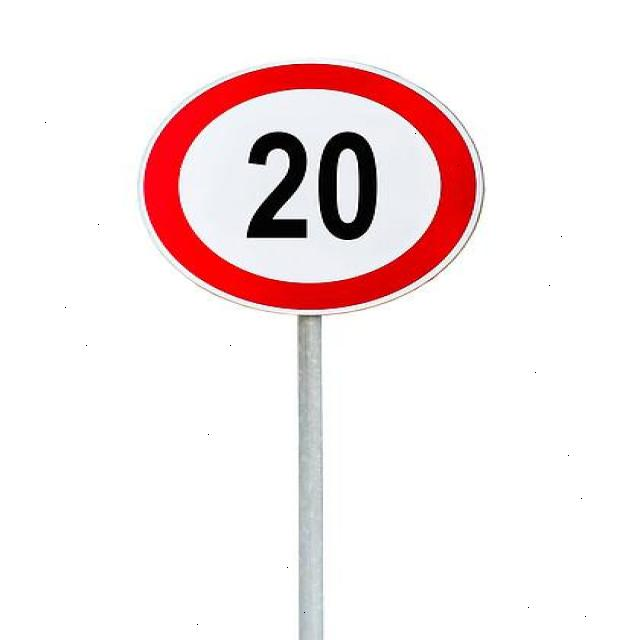speed limit 20: (135, 61, 485, 315)
